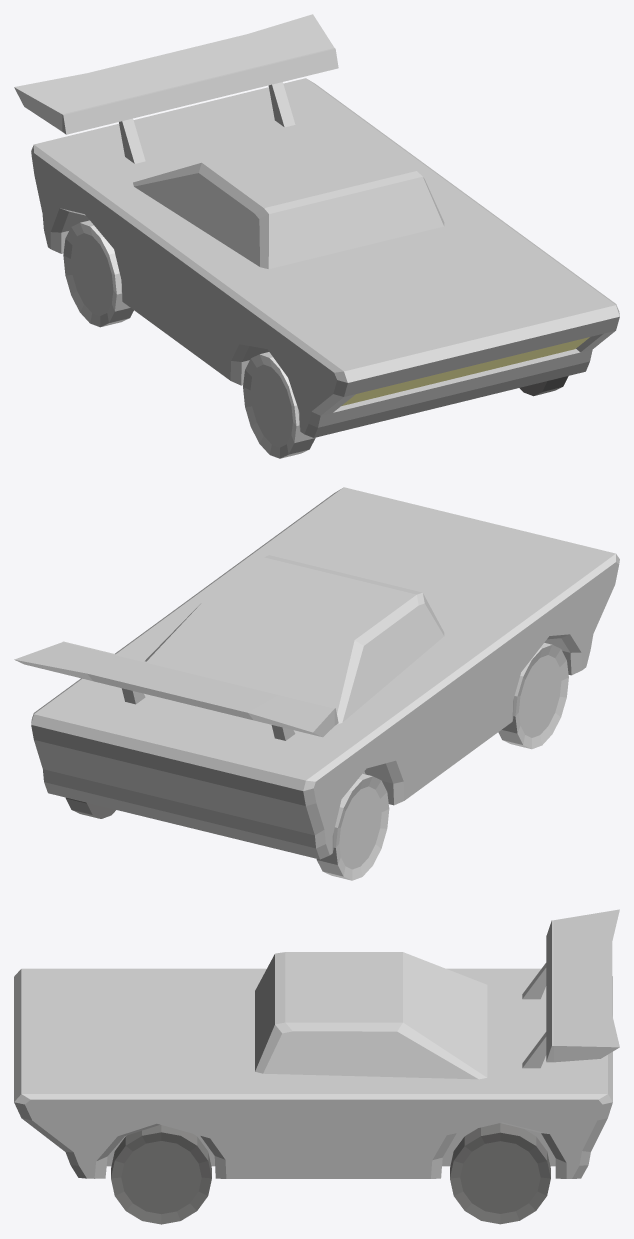
Rendered from car_packed.fbx.
3 renders of one model, top to bottom at view 1: azimuth 30°, elevation 25°; view 2: azimuth 150°, elevation 25°; view 3: azimuth 270°, elevation 25°, orthographic. The views are drawn at different scales.
Visible parts, largest first — view 1: body, wheel.004, wheel, lamp; view 2: body, wheel.004, wheel, wheel.001; view 3: body, wheel.001, wheel.003.
Boxes of the visible parts, bbox=[...] form: body: bbox=[14, 14, 619, 437]; wheel.004: bbox=[63, 220, 133, 327]; wheel: bbox=[243, 352, 315, 458]; lamp: bbox=[342, 337, 589, 405]; body: bbox=[14, 487, 619, 859]; wheel.004: bbox=[316, 773, 389, 880]; wheel: bbox=[498, 643, 568, 749]; wheel.001: bbox=[65, 797, 115, 818]; body: bbox=[14, 909, 619, 1178]; wheel.001: bbox=[450, 1123, 550, 1224]; wheel.003: bbox=[111, 1124, 211, 1224].
Size of the model in its own units: 219 by 136 by 407.
3 materials, 1 textured.
